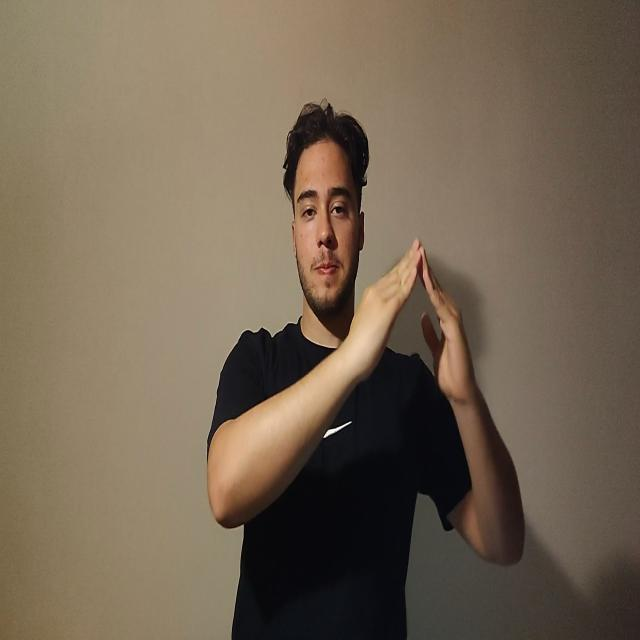house: (339, 242, 475, 412)
